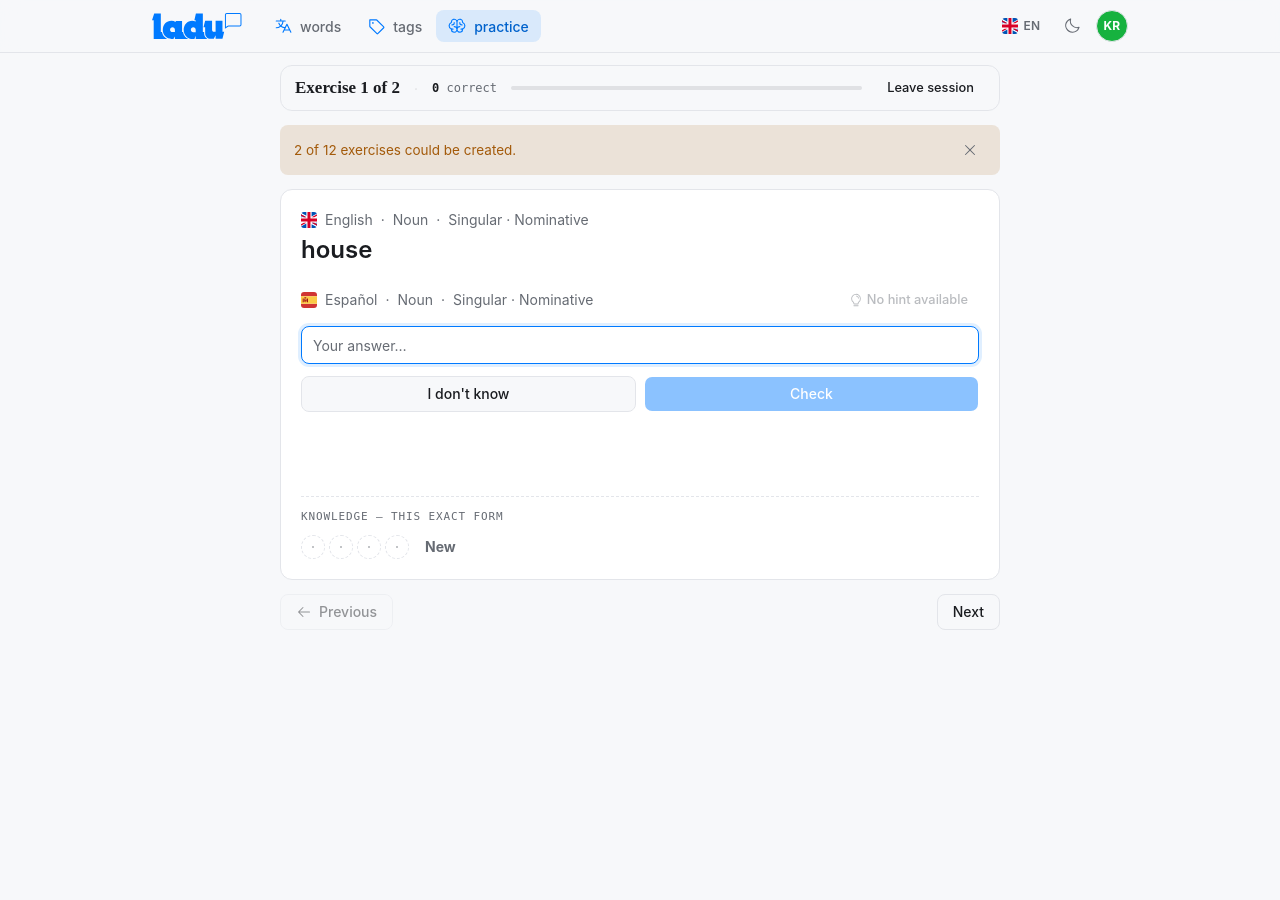
Test case: Leave dialog › saves a new session and leaves
This screenshot has width=1280, height=900.
In the field labelled "Your answer": (640, 345) [302, 327, 978, 363], type "casa"
Then press Enter
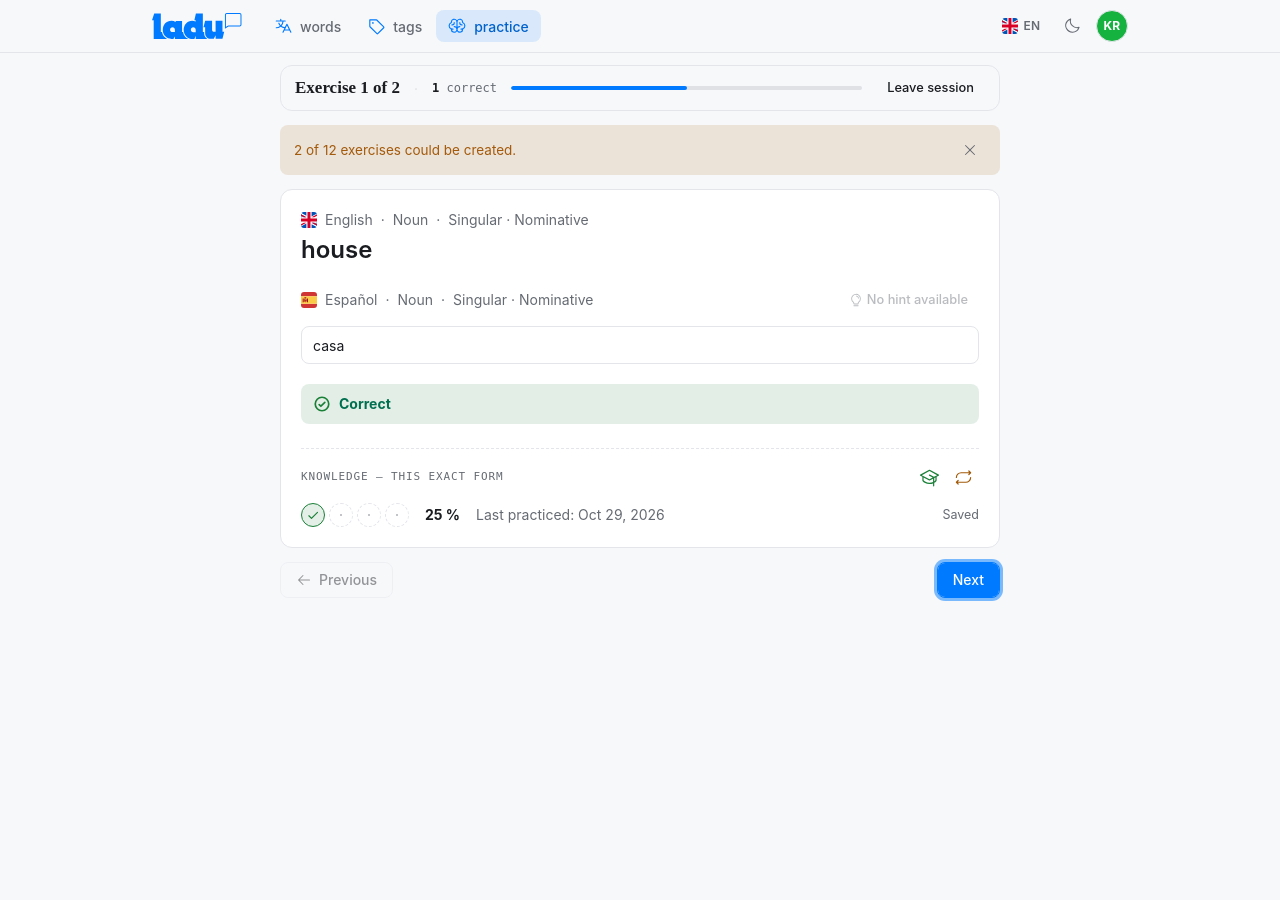
Click the button "Next": click(968, 580) [937, 562, 1000, 598]
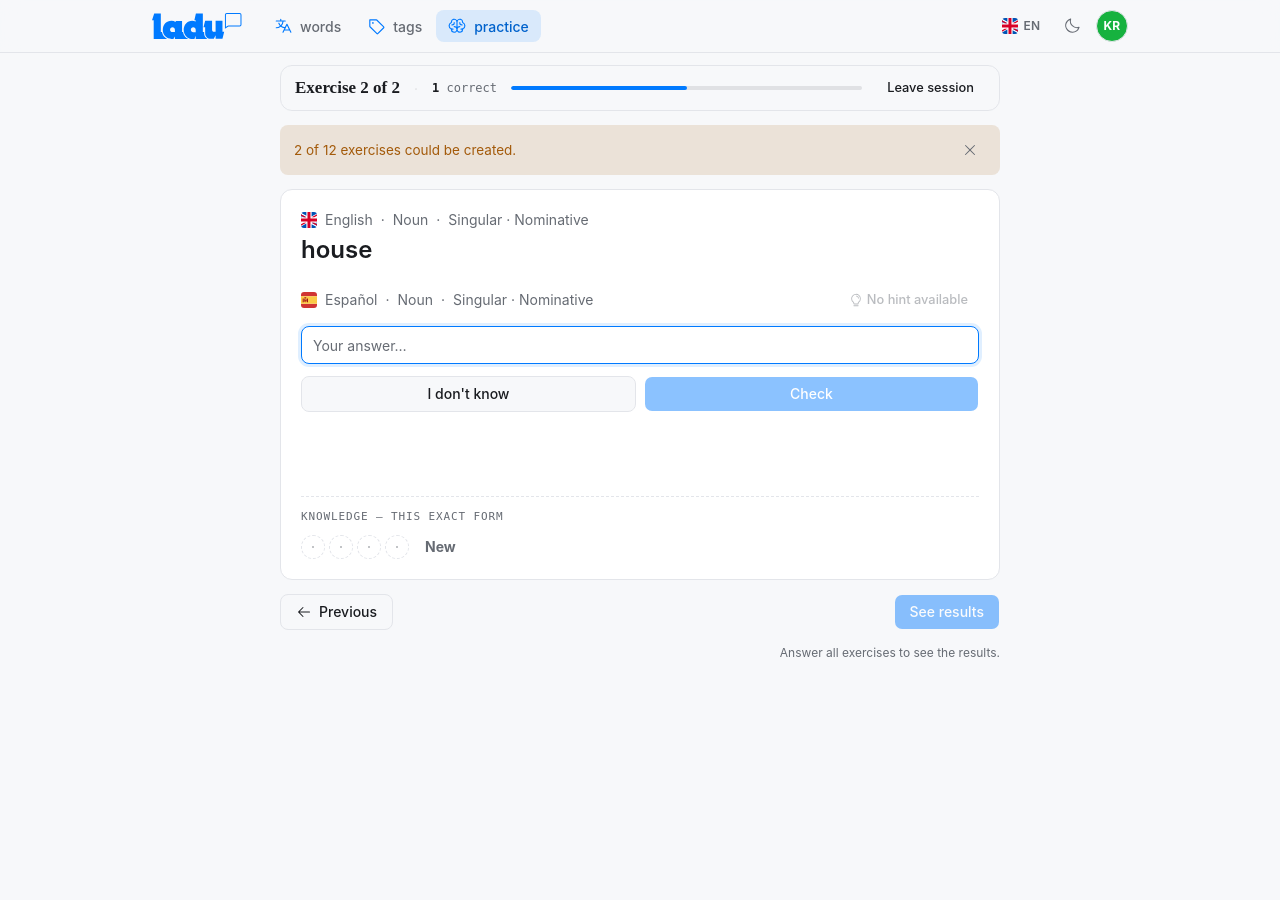
Click the button "Leave session": click(931, 88) [876, 74, 985, 102]
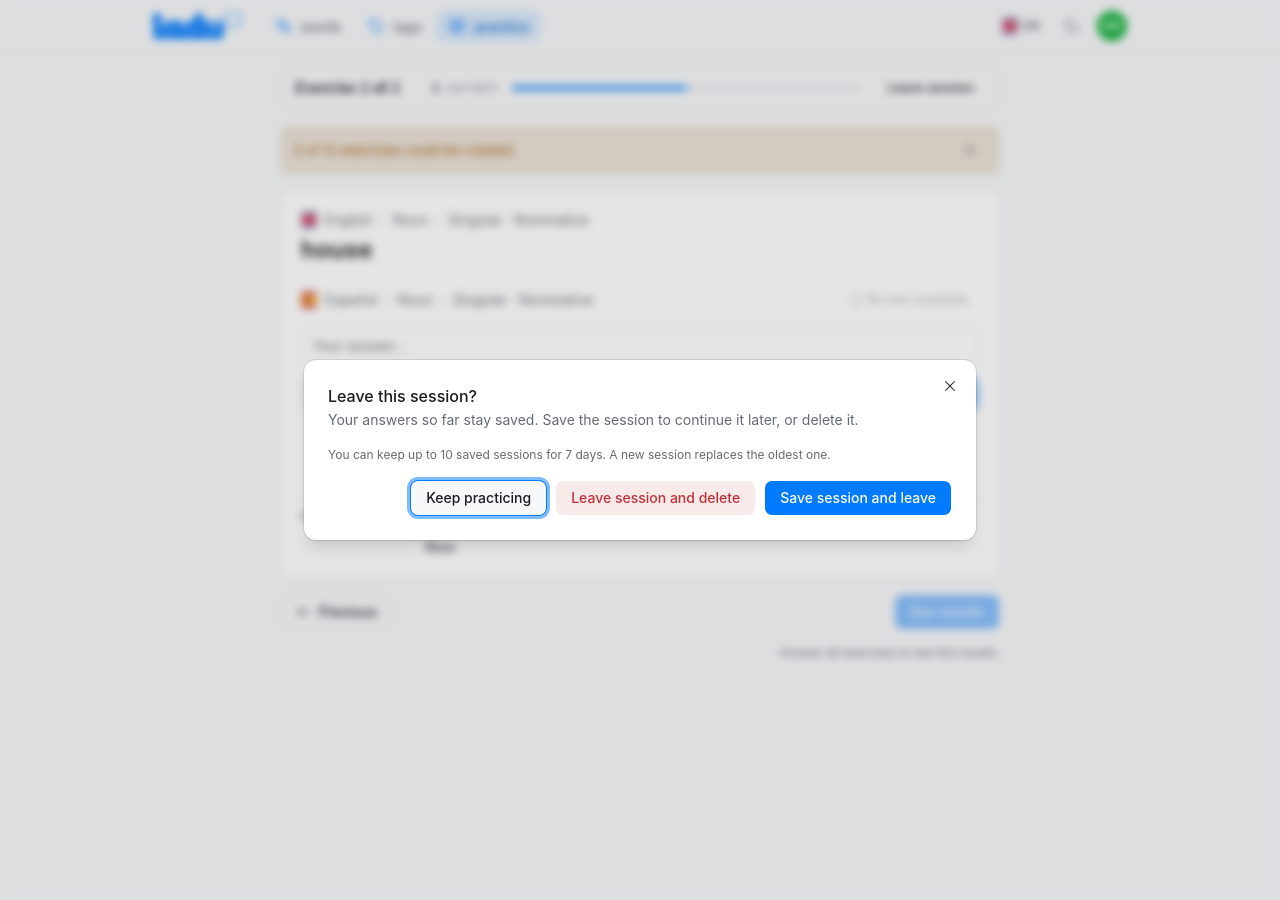
Click the button "Save session and leave": click(858, 498) [764, 480, 952, 516]
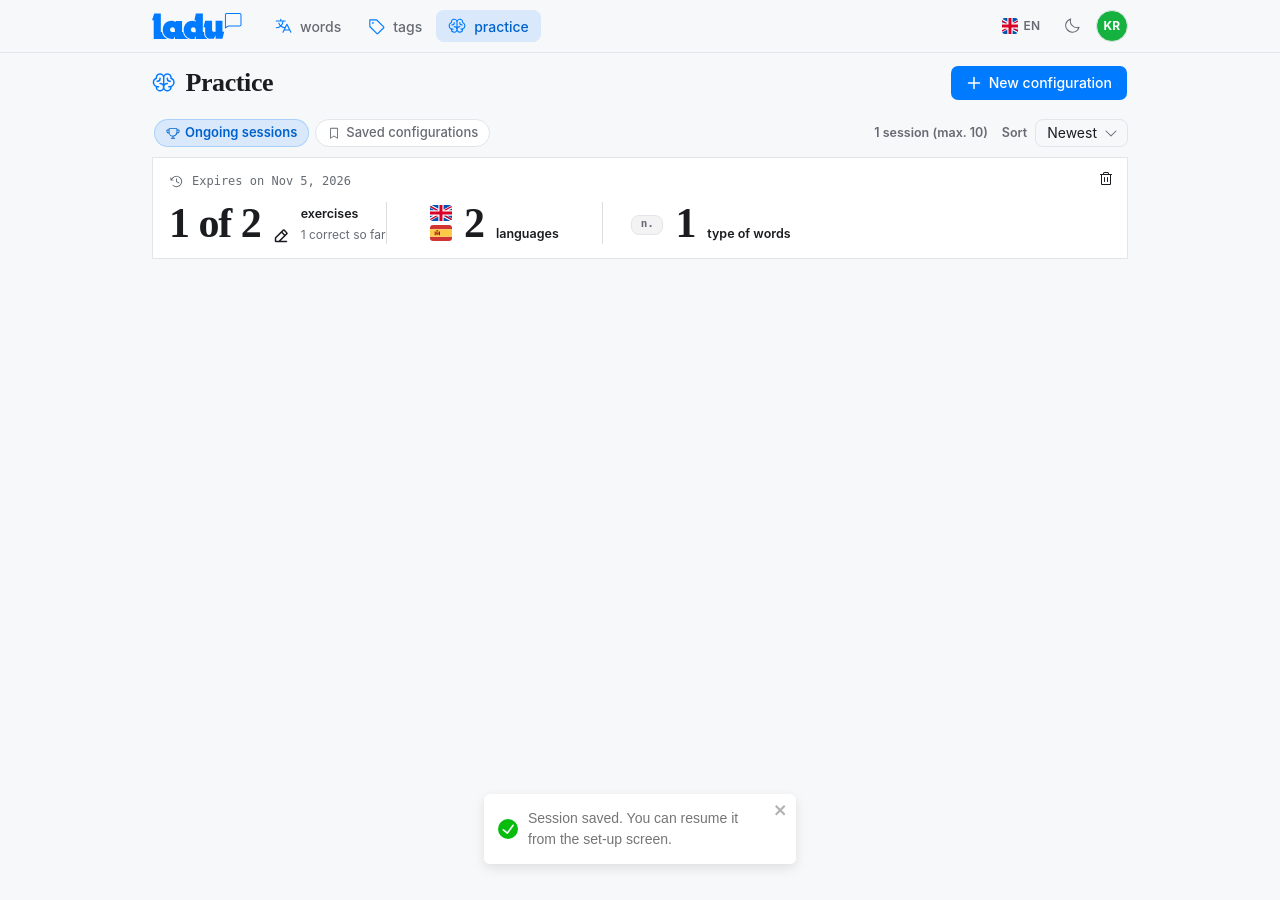
Expected: the text "Session saved. You can resume it from the set-up screen." is shown, [528, 808, 768, 850]
Expected: the button with aria-label "Resume session with 1 of 2 answered" is shown, [152, 157, 1128, 259]
